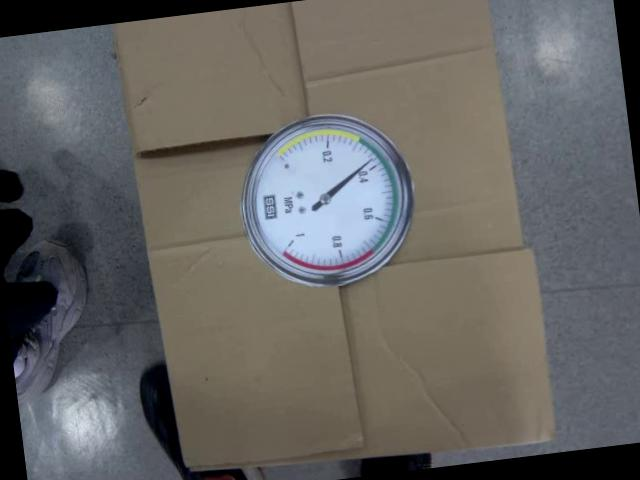Dashboard: (232, 104, 423, 296)
ssi: (258, 192, 279, 224)
